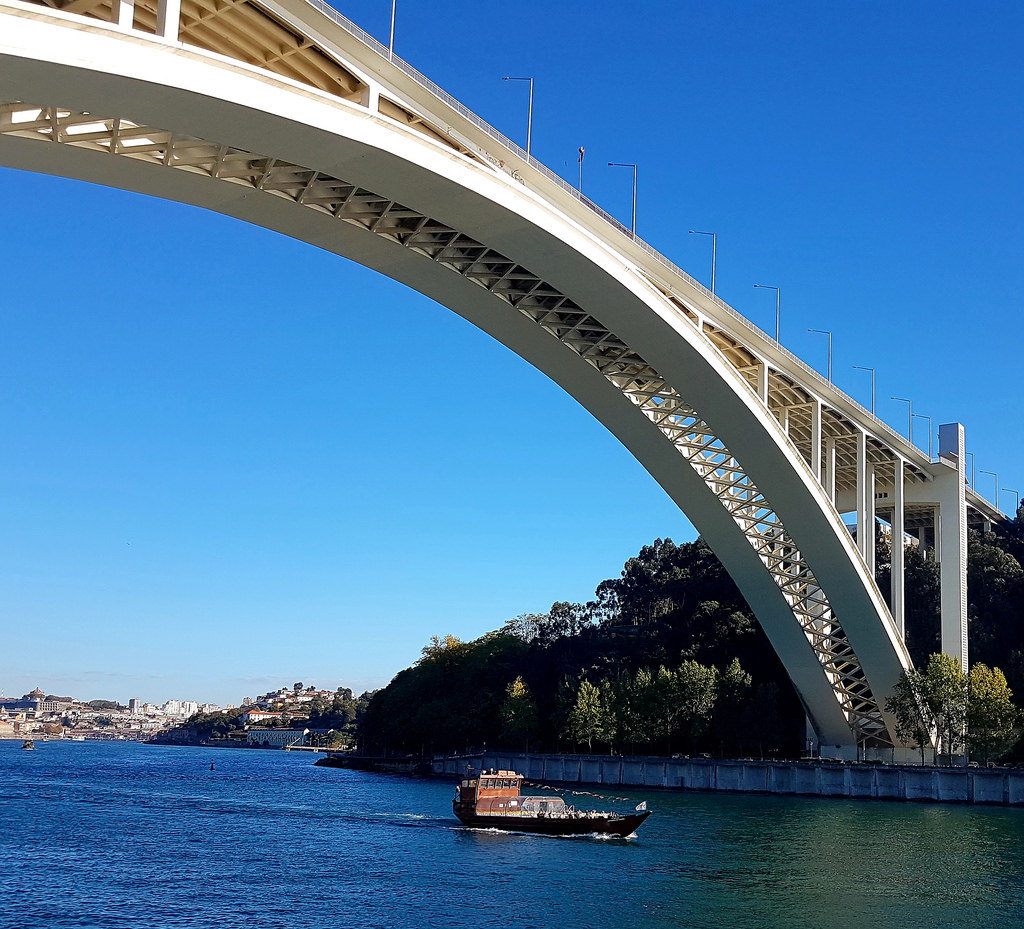arrabida: (0, 0, 1012, 769)
